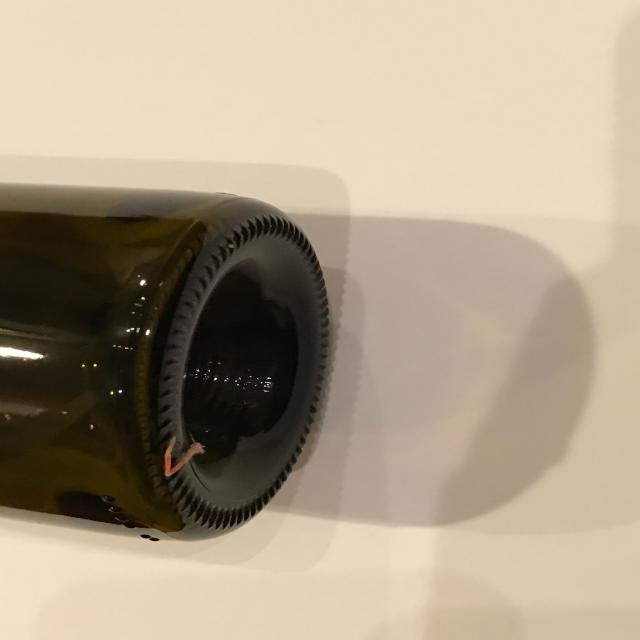glass: (0, 180, 333, 541)
